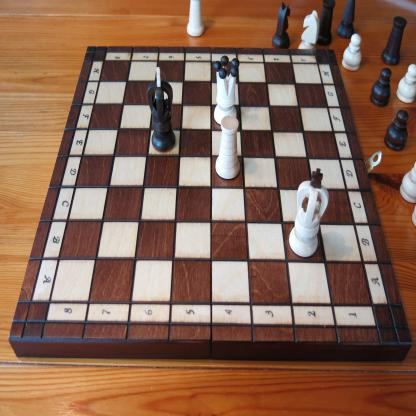black-bishop: (336, 0, 356, 40)
black-king: (146, 66, 176, 152)
black-knight: (271, 1, 291, 50)
black-pawn: (384, 109, 409, 152), (370, 67, 392, 108)
black-rook: (381, 16, 407, 66), (316, 0, 336, 47)
white-king: (288, 167, 329, 258)
white-knight: (297, 10, 320, 50)
white-pawn: (341, 33, 362, 72), (396, 63, 415, 105), (399, 160, 415, 205)
white-queen: (213, 54, 240, 125)
white-rook: (214, 115, 241, 180), (186, 0, 206, 38)
